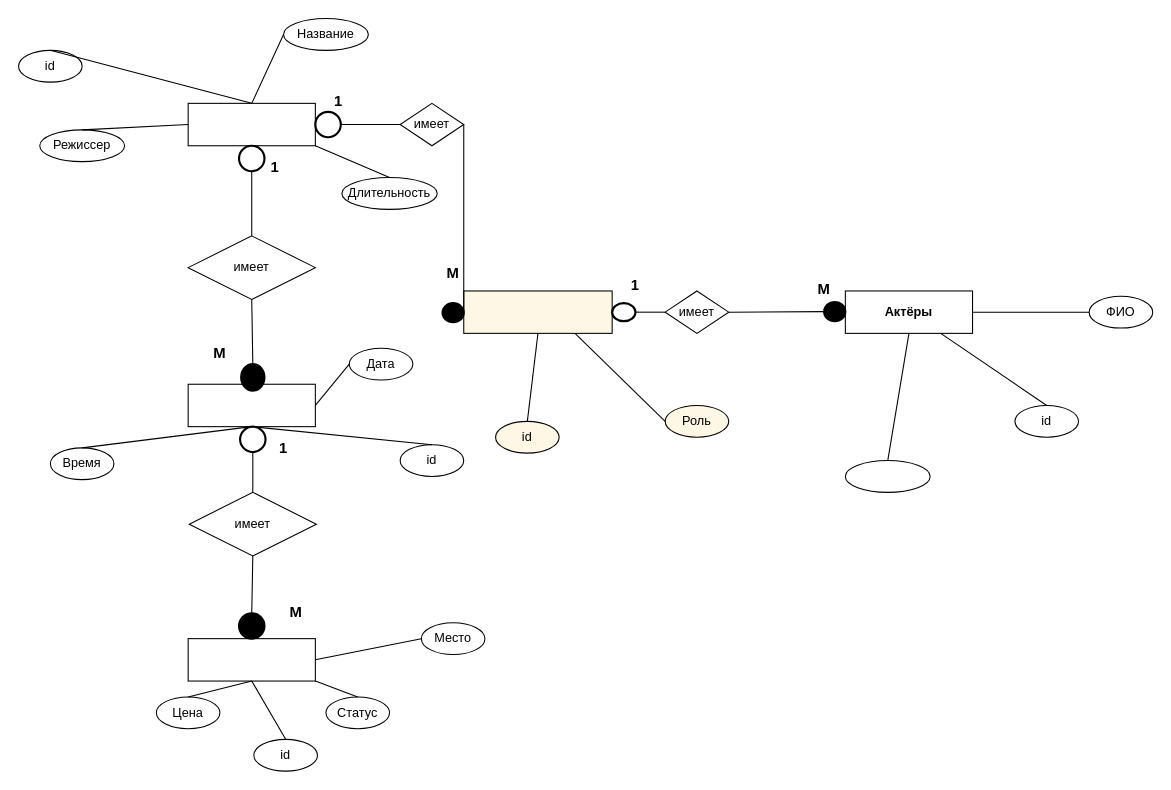
This 1171x790 diagram has some shape labels left out. The shapes that lost their labels are listed below. From the top down, each one's box as (x1, y1, x2, y2) in pixels, then its label:
(187, 102, 315, 146): Спектакли
(463, 290, 612, 333): ActorShow
(187, 383, 315, 427): Показы
(844, 460, 930, 492): Биография
(187, 638, 315, 681): Билеты
